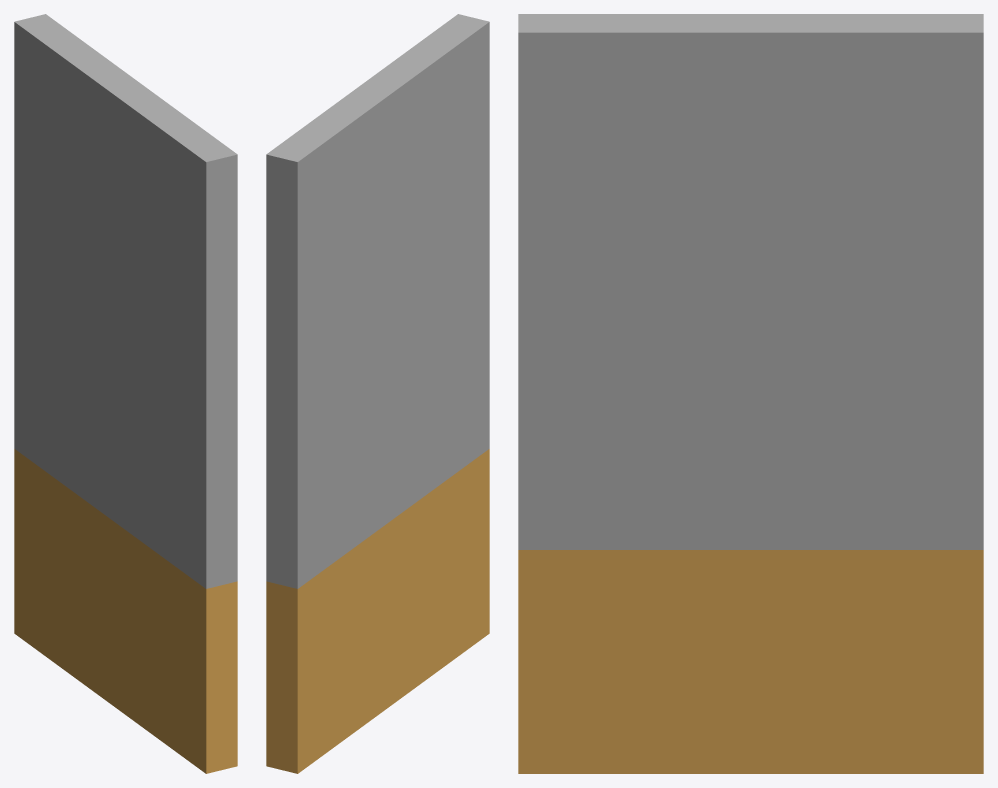
The model's file is Wall_Simple.fbx.
3 views of the same model, side by side, from view 1: azimuth 30°, elevation 25°; view 2: azimuth 150°, elevation 25°; view 3: azimuth 270°, elevation 25° (orthographic). The views are drawn at different scales.
Parts seen in each view (by area): view 1: Wall_Siimple; view 2: Wall_Siimple; view 3: Wall_Siimple.
Part boxes in pixels (box(x1,y1,x2,y2)): Wall_Siimple: box(14, 14, 237, 773); Wall_Siimple: box(266, 14, 489, 773); Wall_Siimple: box(518, 14, 983, 773).
Bounding box in the file's own units: 38.02 × 703 × 400.
